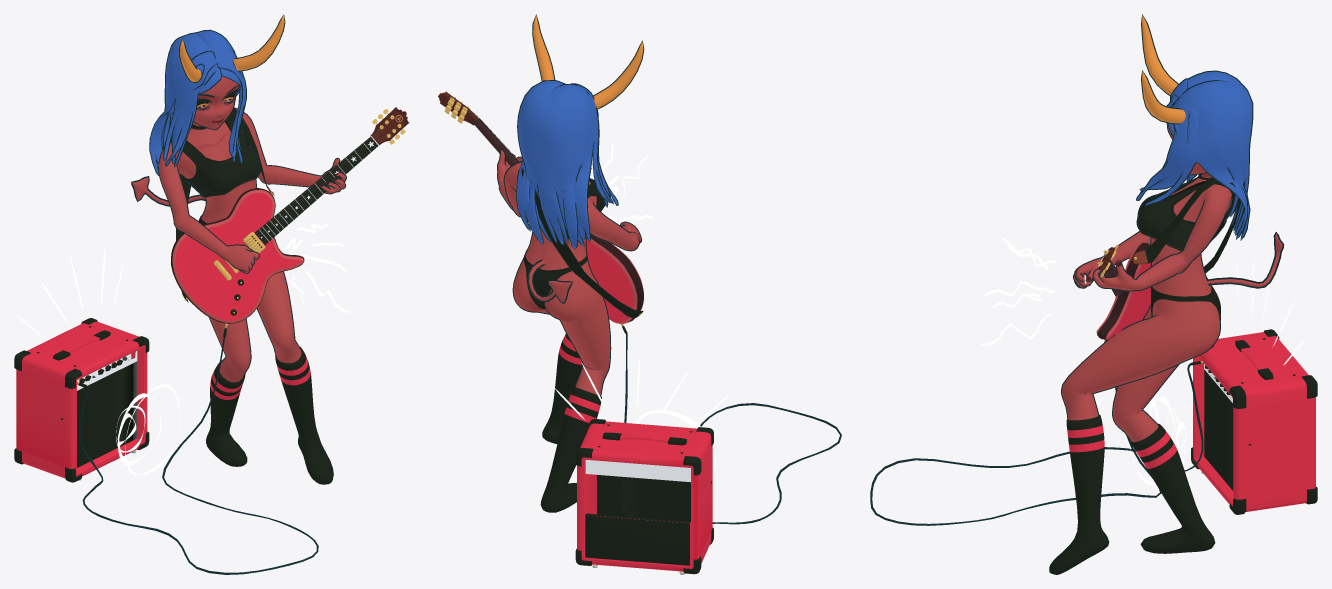
3 renders of one model, left to right at view 1: azimuth 30°, elevation 25°; view 2: azimuth 150°, elevation 25°; view 3: azimuth 270°, elevation 25°, orthographic. The views are drawn at different scales.
Visible parts, largest first — view 1: AMP, body_1, TELEP_col, hair_01, body_1.001, top_1, Catenary, horns.001, Plane.002, Plane.003, tail, Plane.001; view 2: AMP, hair_01, body_1, body_1.001, TELEP_col, horns.001, Plane.001, Catenary, Plane.002, undies, tail; view 3: AMP, body_1, hair_01, body_1.001, TELEP_col, top_1, horns.001, Catenary, Plane.001, Plane.002, tail, undies (+1 smaller).
Boxes of the visible parts, <box> form: AMP: <box>14,318,149,482</box>; body_1: <box>158,65,346,382</box>; TELEP_col: <box>170,107,409,324</box>; hair_01: <box>149,29,246,175</box>; body_1.001: <box>206,347,333,484</box>; top_1: <box>164,114,261,197</box>; Catenary: <box>79,338,318,574</box>; horns.001: <box>179,14,285,82</box>; Plane.002: <box>17,222,350,338</box>; Plane.003: <box>116,384,180,475</box>; tail: <box>131,176,205,206</box>; Plane.001: <box>176,108,274,302</box>; AMP: <box>575,419,713,574</box>; hair_01: <box>516,80,618,249</box>; body_1: <box>497,149,641,396</box>; body_1.001: <box>540,334,601,512</box>; TELEP_col: <box>438,91,643,323</box>; horns.001: <box>532,14,644,109</box>; Plane.001: <box>521,168,643,318</box>; Catenary: <box>624,334,841,524</box>; Plane.002: <box>554,142,729,420</box>; undies: <box>523,247,587,309</box>; tail: <box>527,259,572,303</box>; AMP: <box>1191,329,1317,514</box>; body_1: <box>1061,102,1231,442</box>; hair_01: <box>1136,70,1253,240</box>; body_1.001: <box>1049,415,1215,574</box>; TELEP_col: <box>1096,242,1150,342</box>; top_1: <box>1136,177,1235,251</box>; horns.001: <box>1141,14,1185,124</box>; Catenary: <box>870,363,1203,525</box>; Plane.001: <box>1132,177,1240,272</box>; Plane.002: <box>980,238,1304,365</box>; tail: <box>1207,232,1284,288</box>; undies: <box>1151,278,1220,320</box>.
Bounding box in the file's own units: 131 × 167 × 134.
7 materials, 3 textured.
